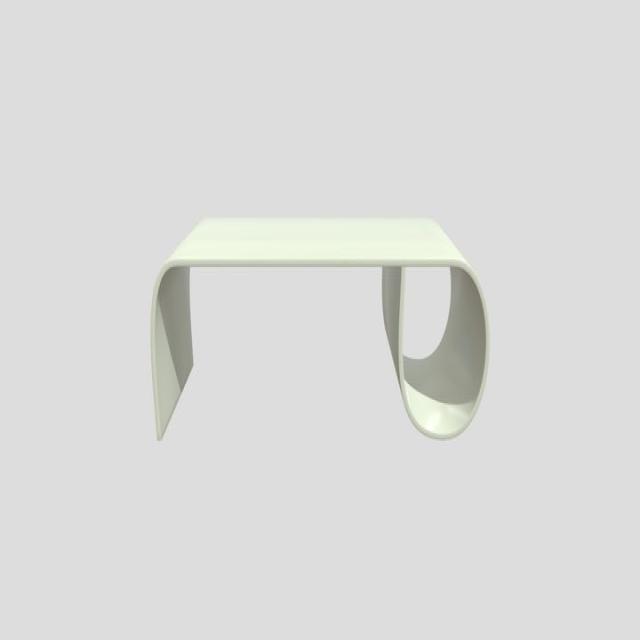table: (152, 212, 492, 439)
